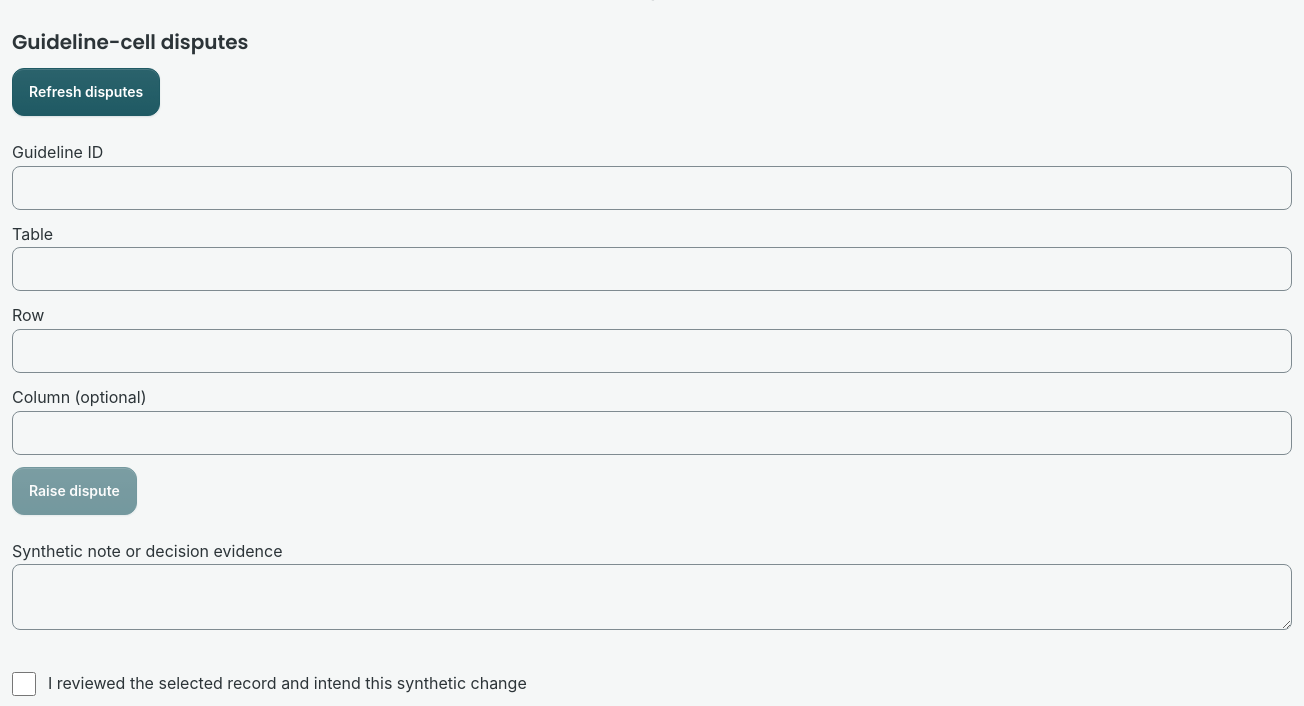
Scenario: editing the cell after confirming requires a new confirmation
(page scrolled)
Click the checkbox labelled "I reviewed the selected record and intend this synthetic change" at (24, 684), box top-left (12, 672), bottom-right (36, 696)
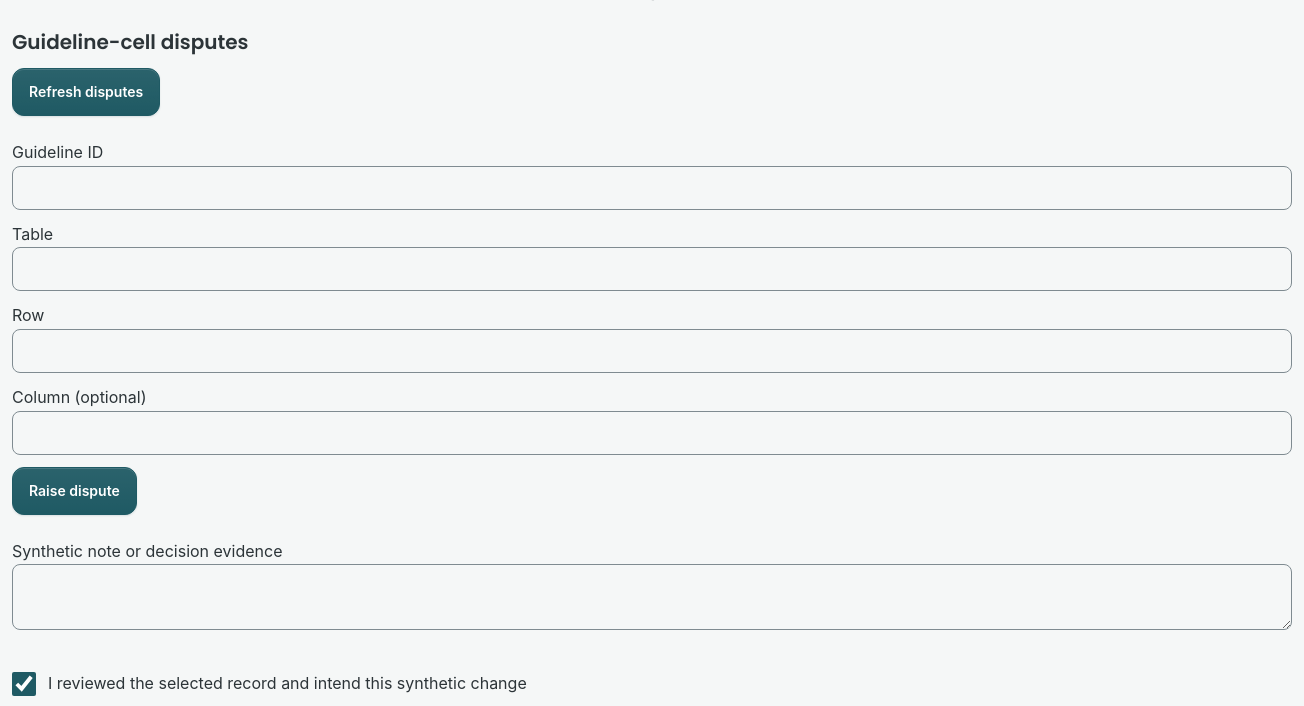
Type "Intermediate Metabolizer" into the field labelled "Row" at (652, 351), box top-left (12, 329), bottom-right (1292, 373)
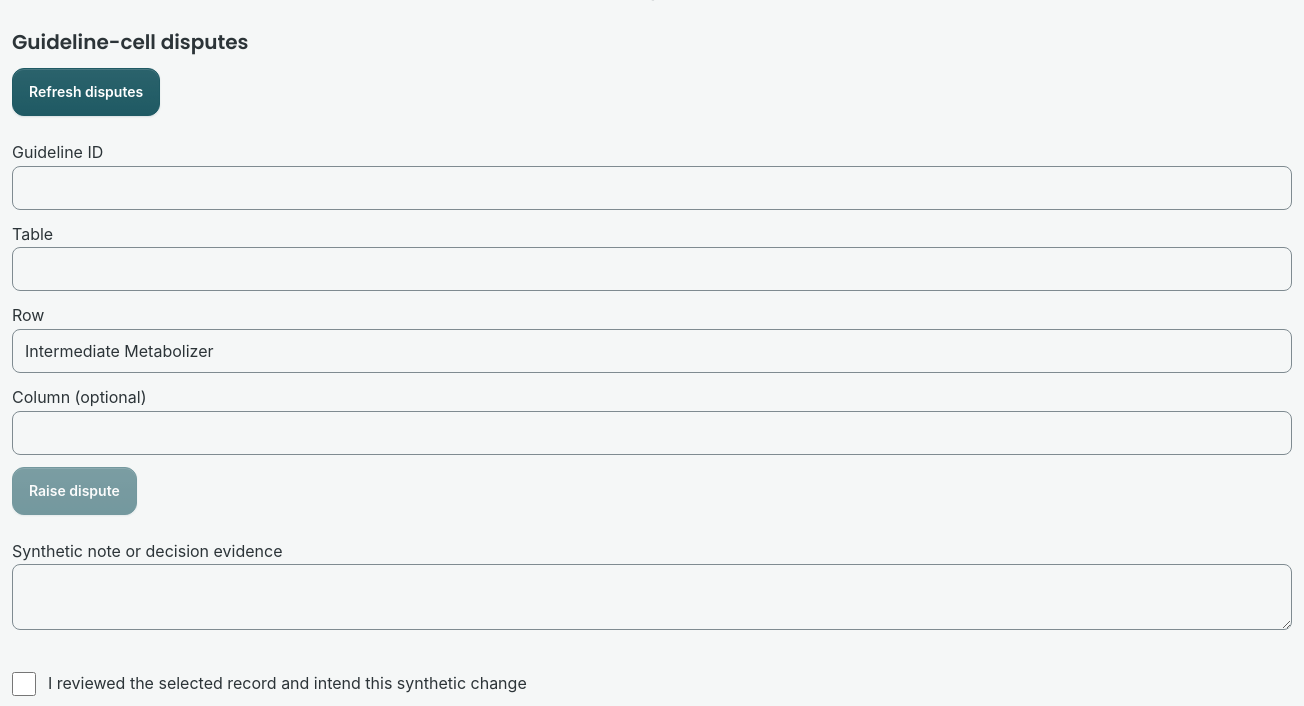
Check: the button "Raise dispute" is disabled, box top-left (12, 467), bottom-right (137, 515)
